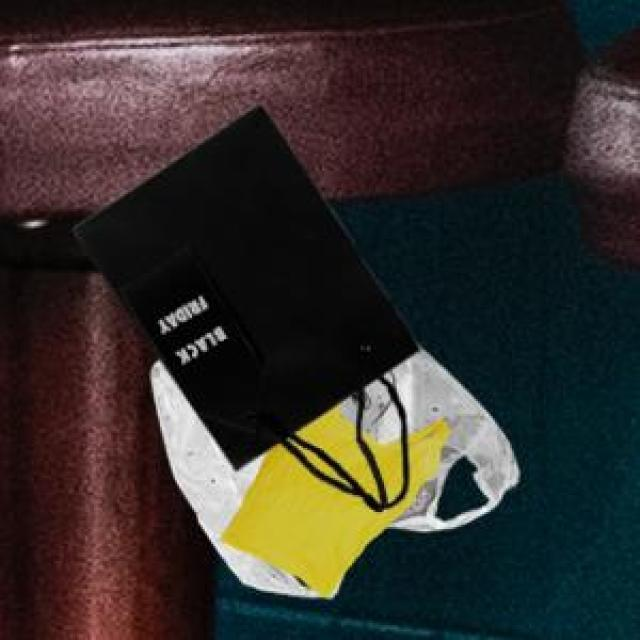paper: (70, 100, 416, 508)
